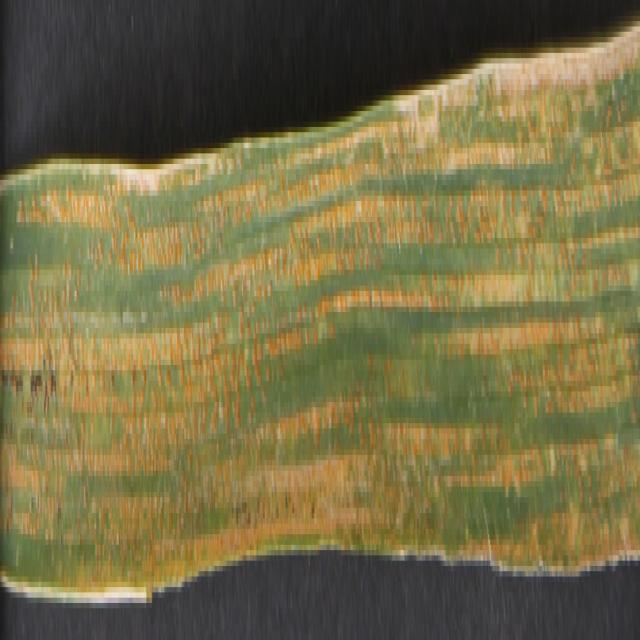leaf rust: (1, 80, 640, 556)
